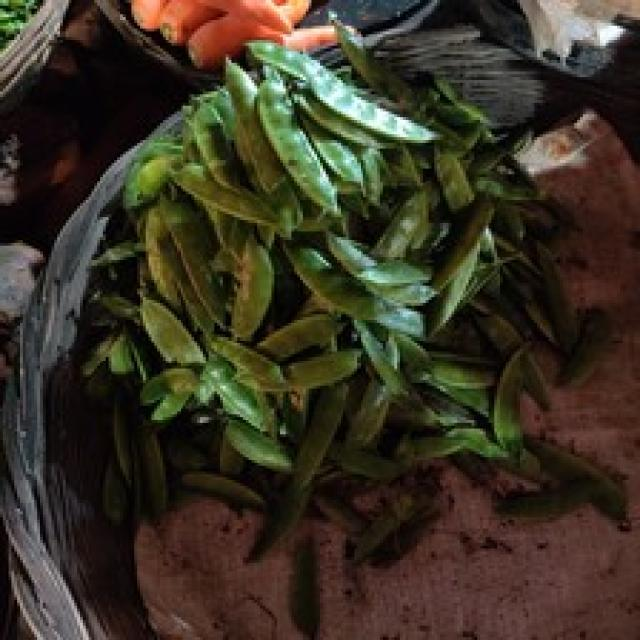Bean: (77, 23, 626, 563)
